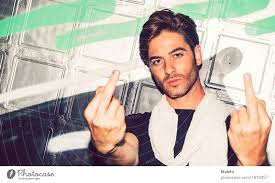white_male: (136, 31, 201, 103)
